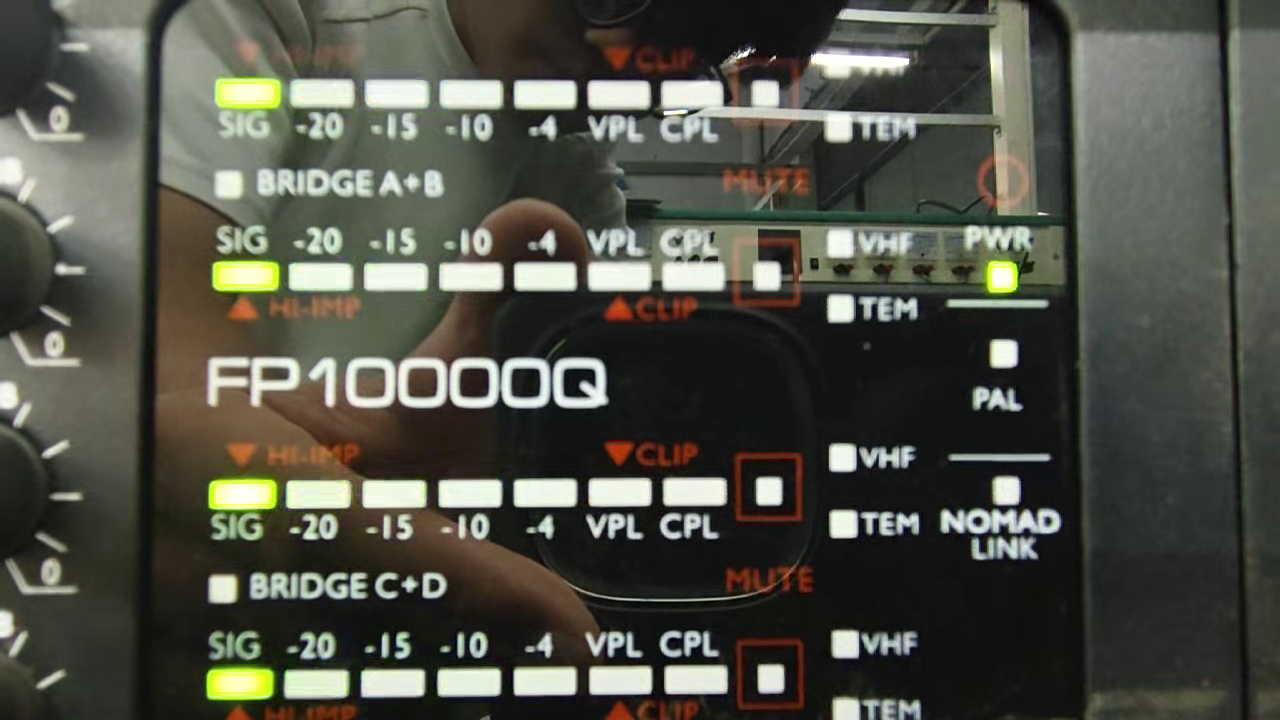FP_CPL: (656, 72, 733, 154), (655, 223, 732, 303), (657, 473, 728, 551), (655, 627, 730, 699)
FP_PWR: (960, 218, 1039, 299)
FP_PWR_area: (945, 152, 1049, 299)
FP_SIG_area: (216, 33, 929, 154), (200, 215, 929, 330), (201, 436, 926, 551), (204, 619, 924, 720)
FP_VPL: (580, 470, 652, 554), (580, 223, 655, 301), (584, 74, 654, 153), (583, 627, 655, 701)
